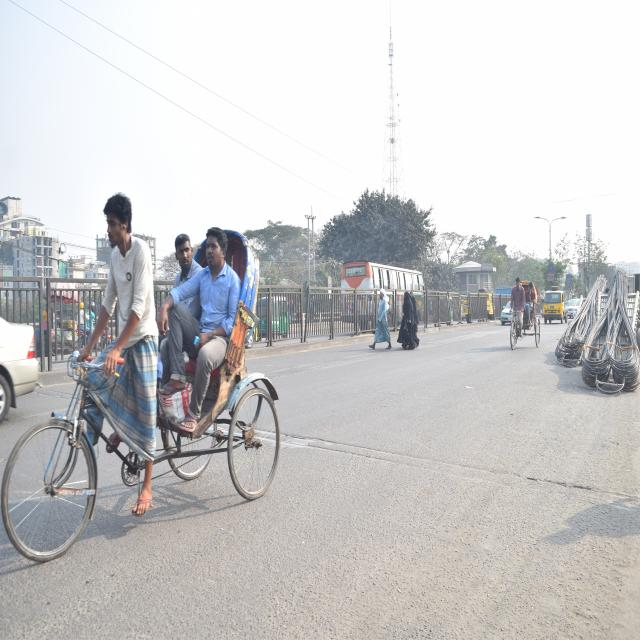car: (0, 302, 42, 433), (499, 298, 516, 338)
pickup-van: (544, 282, 568, 330)
